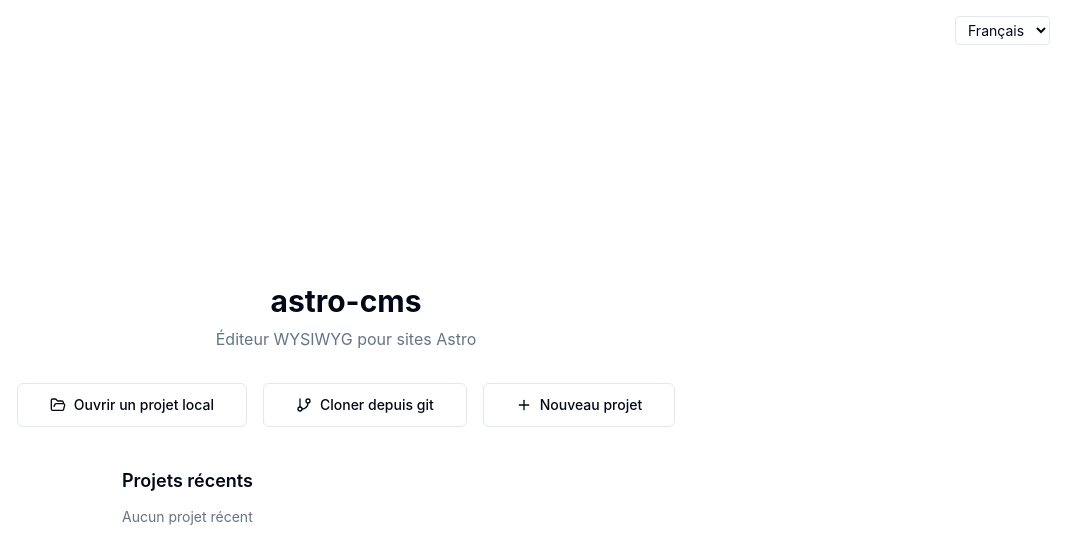
it: App flow › shows error in installing screen when install fails
Click the button "Ouvrir un projet local" at (132, 405), box [17,383,247,427]
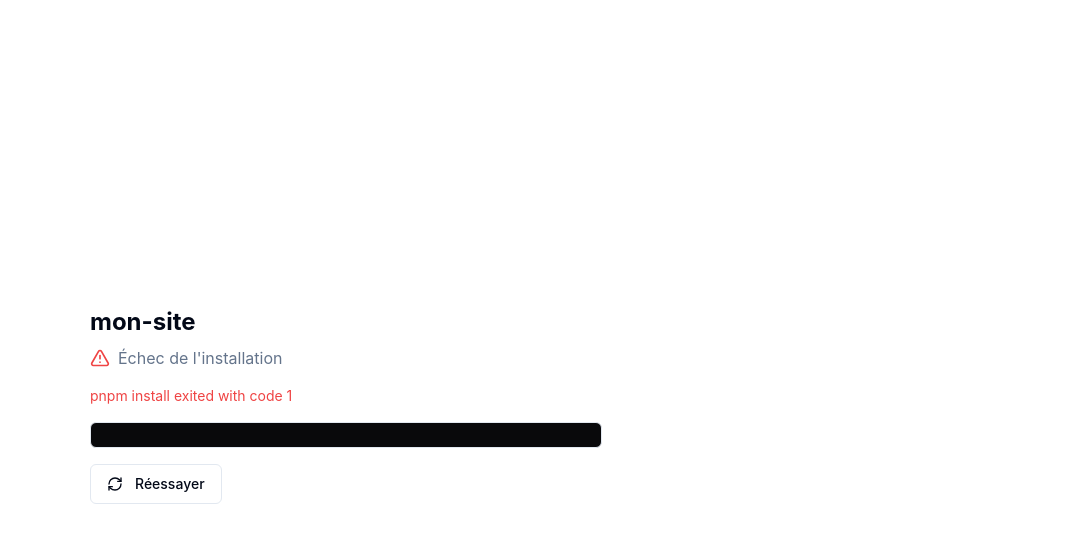
Check: the text "Échec de l'installation" is shown, box [118,346,282,370]
Check: the text "pnpm install exited with code 1" is shown, box [90,387,292,404]
